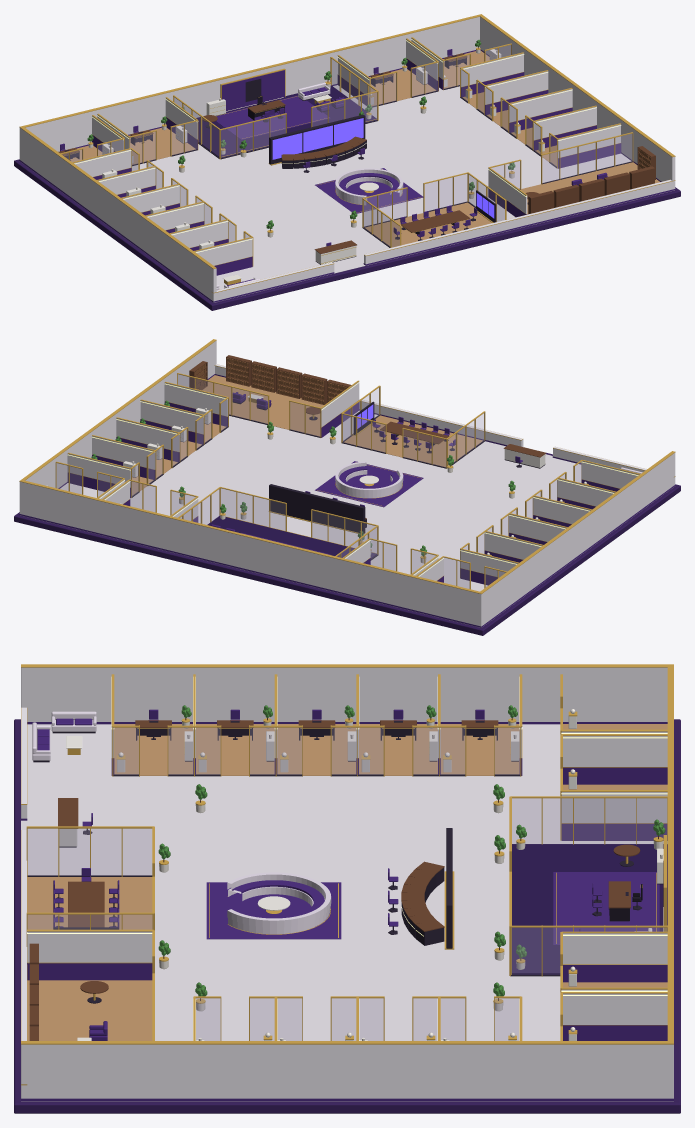
File: building.glb
3 renders of one model, top to bottom at view 1: azimuth 30°, elevation 25°; view 2: azimuth 150°, elevation 25°; view 3: azimuth 270°, elevation 25°, orthographic. The views are drawn at different scales.
Visible parts, largest first — view 1: wall, marble, glass, gold, wall_accent, oak, foundation, velvet, walnut, dark, carpet_exec, lacquer (+5 smaller); view 2: wall, marble, glass, gold, oak, foundation, wall_accent, dark, walnut, velvet, books, carpet_exec (+4 smaller); view 3: marble, wall, glass, oak, gold, foundation, velvet, wall_accent, carpet_exec, walnut, dark, fabric (+4 smaller).
Part boxes in pixels (x1,y1,x2,y2): wall: (19,17,675,301); marble: (21,85,674,302); glass: (62,45,632,246); gold: (19,14,675,293); wall_accent: (19,49,675,302); oak: (70,51,659,247); foundation: (14,159,680,310); velvet: (60,49,607,286); walnut: (58,46,655,253); dark: (64,55,632,264); carpet_exec: (196,85,376,158); lacquer: (102,49,544,281); wall: (19,340,675,626); marble: (20,410,673,627); glass: (56,374,581,588); gold: (19,339,675,594); oak: (132,375,482,495); foundation: (14,453,680,635); wall_accent: (19,374,675,627); dark: (132,401,545,560); walnut: (189,355,545,556); velvet: (211,392,522,554); books: (194,358,347,404); carpet_exec: (207,515,377,558); marble: (21,724,673,1101); wall: (21,667,673,1098); glass: (28,728,666,1040); oak: (27,724,667,1040); gold: (21,664,673,1085); foundation: (14,719,680,1113); velvet: (37,709,659,1040); wall_accent: (21,722,673,1100); carpet_exec: (512,844,667,974); walnut: (29,718,658,1040); dark: (27,721,663,1003); fabric: (32,711,652,934).
Bounding box in the file's own units: 44.7 × 3.65 × 32.7.
